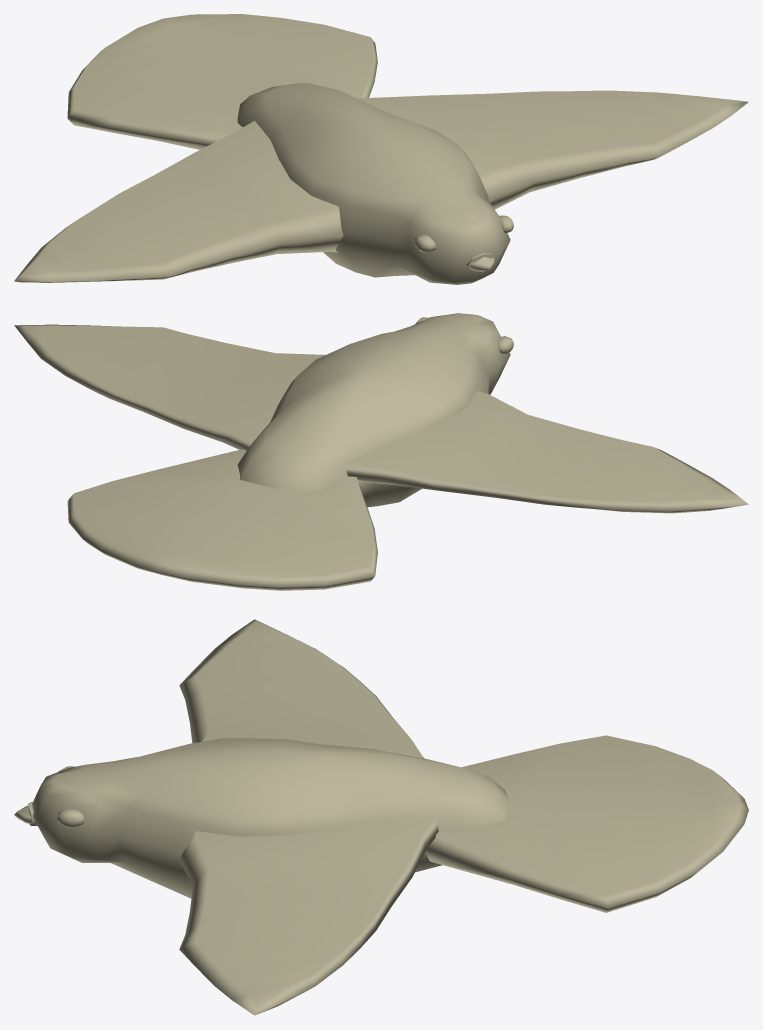
File: Will.fbx
3 views of the same model, one above another, from view 1: azimuth 30°, elevation 25°; view 2: azimuth 150°, elevation 25°; view 3: azimuth 270°, elevation 25° (orthographic). The views are drawn at different scales.
Visible parts, largest first — view 1: Will; view 2: Will; view 3: Will.
Part boxes in pixels (x1,y1,x2,y2): Will: (14, 14, 748, 284); Will: (14, 313, 748, 590); Will: (14, 619, 748, 1015).
Bounding box in the file's own units: 59.88 × 9.68 × 46.92.
